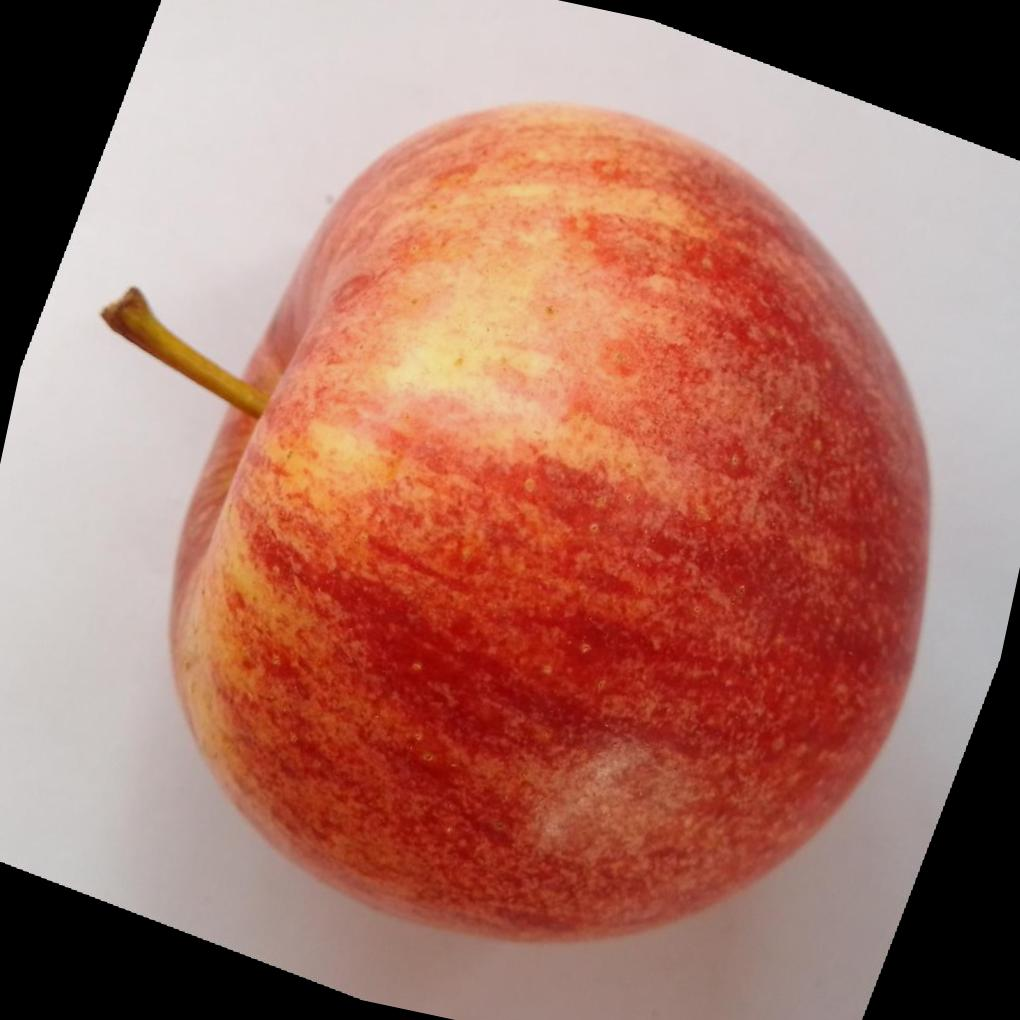FreshGuava: (167, 96, 933, 942)
